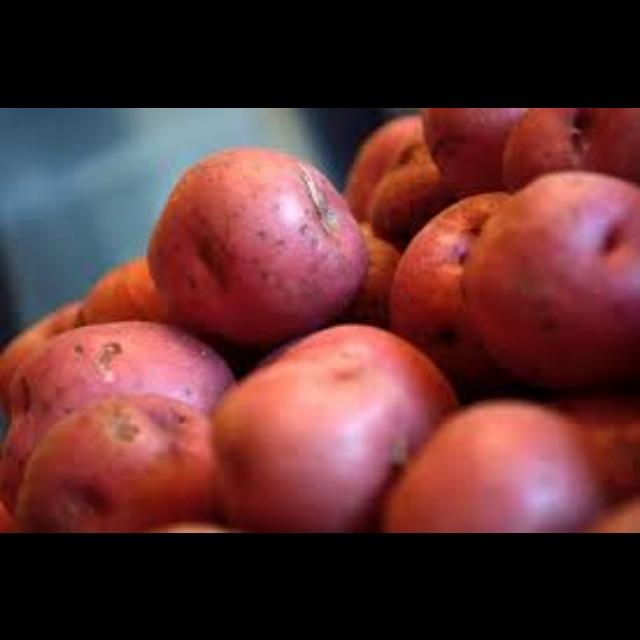Defected potato: (388, 163, 640, 394), (207, 319, 458, 531), (148, 140, 378, 346), (4, 320, 240, 520), (374, 391, 634, 533)
